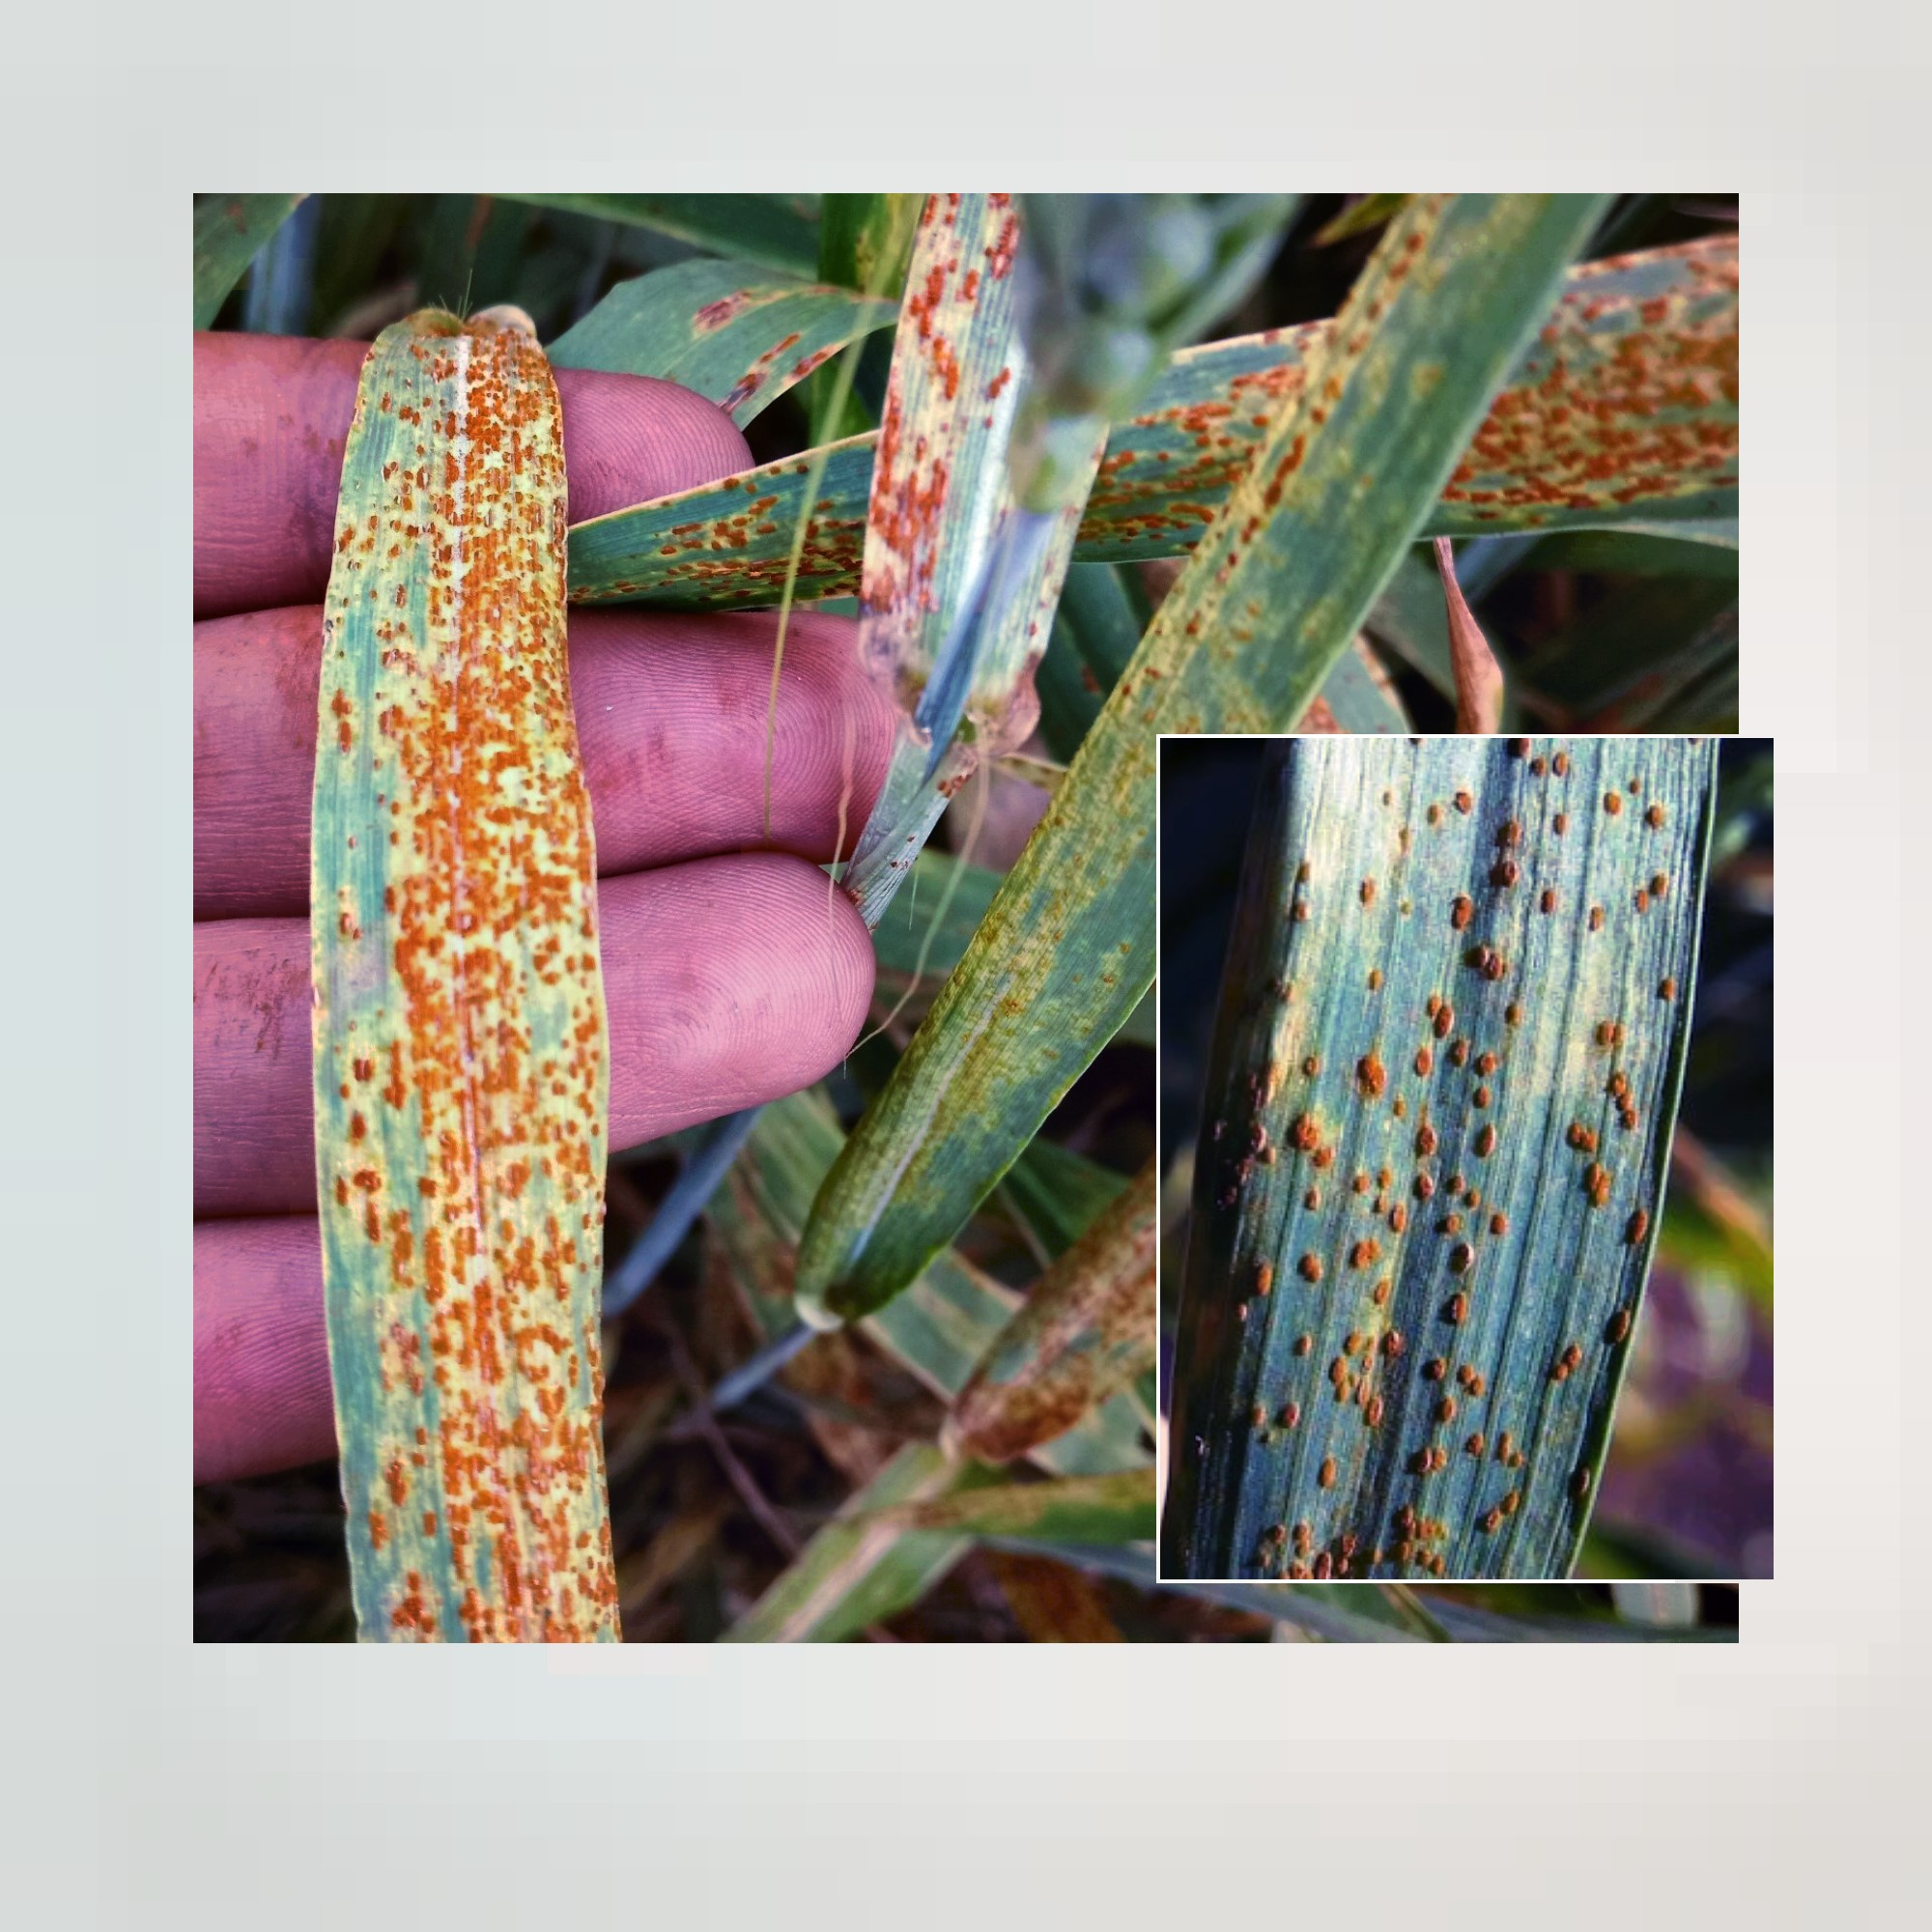Leaf Rust: (308, 345, 642, 1603), (1233, 801, 1683, 1529)
